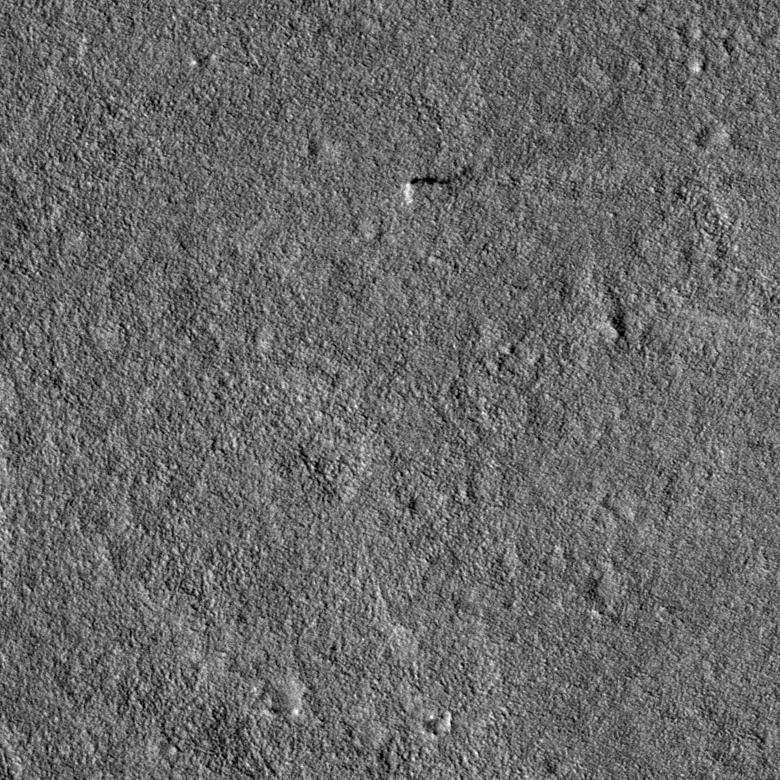dust_devil: (400, 170, 463, 206)
